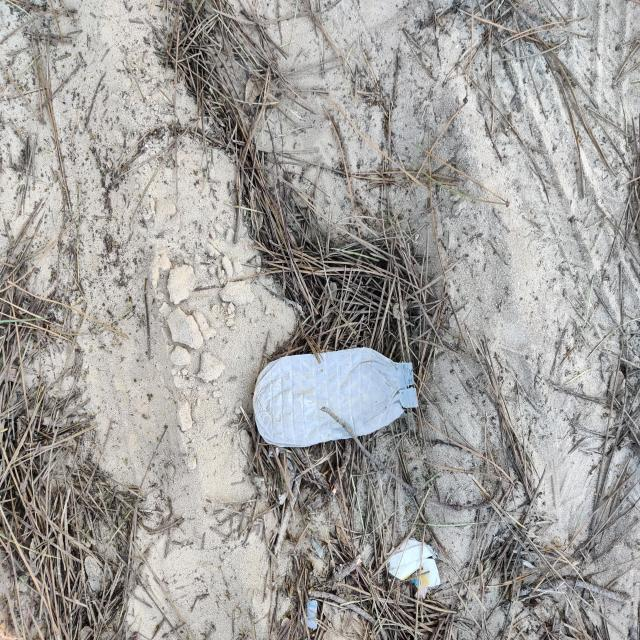litter: (245, 334, 426, 465)
